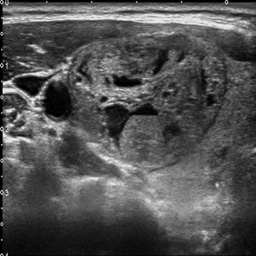mass: (68, 40, 227, 163)
